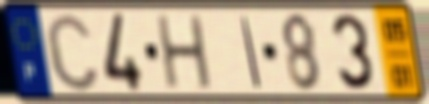3: (329, 10, 377, 94)
4: (102, 10, 147, 94)
8: (280, 10, 324, 94)
C: (42, 9, 102, 94)
H: (154, 12, 216, 92)
I: (238, 14, 264, 91)
